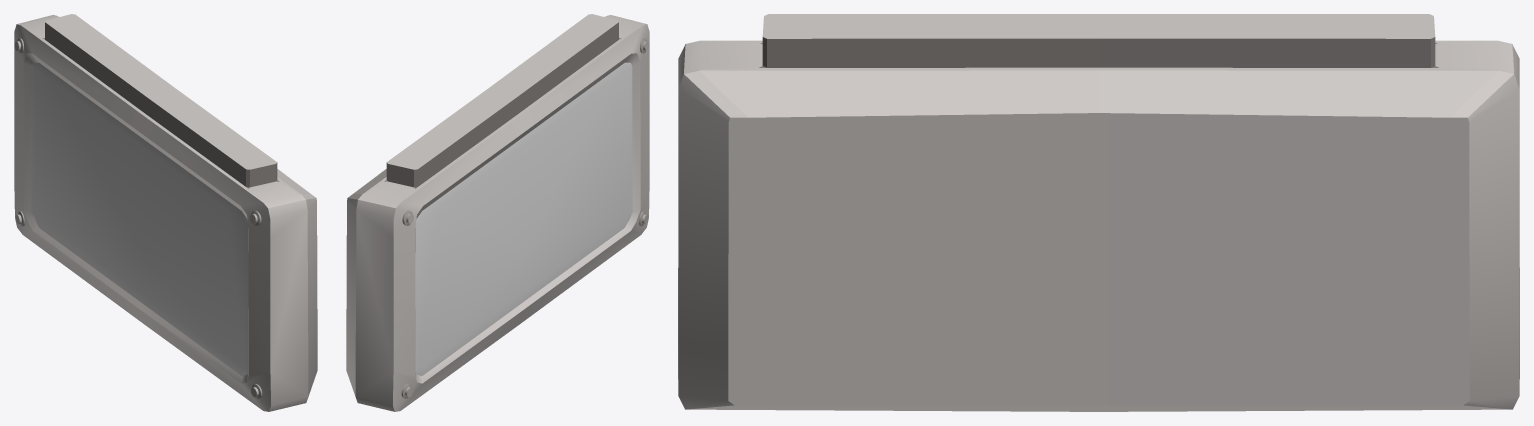
Rendered from LabTablet_ReadoutV4_VR.fbx.
3 renders of one model, left to right at view 1: azimuth 30°, elevation 25°; view 2: azimuth 150°, elevation 25°; view 3: azimuth 270°, elevation 25°, orthographic. The views are drawn at different scales.
Visible parts, largest first — view 1: Tablet_SensorReadout_V4VR; view 2: Tablet_SensorReadout_V4VR; view 3: Tablet_SensorReadout_V4VR.
Boxes of the visible parts, x1=… form: Tablet_SensorReadout_V4VR: x1=14, y1=14, x2=317, y2=411; Tablet_SensorReadout_V4VR: x1=346, y1=14, x2=649, y2=411; Tablet_SensorReadout_V4VR: x1=678, y1=14, x2=1519, y2=411.
Size of the model in its own units: 0.069 by 0.2111 by 0.4324.
